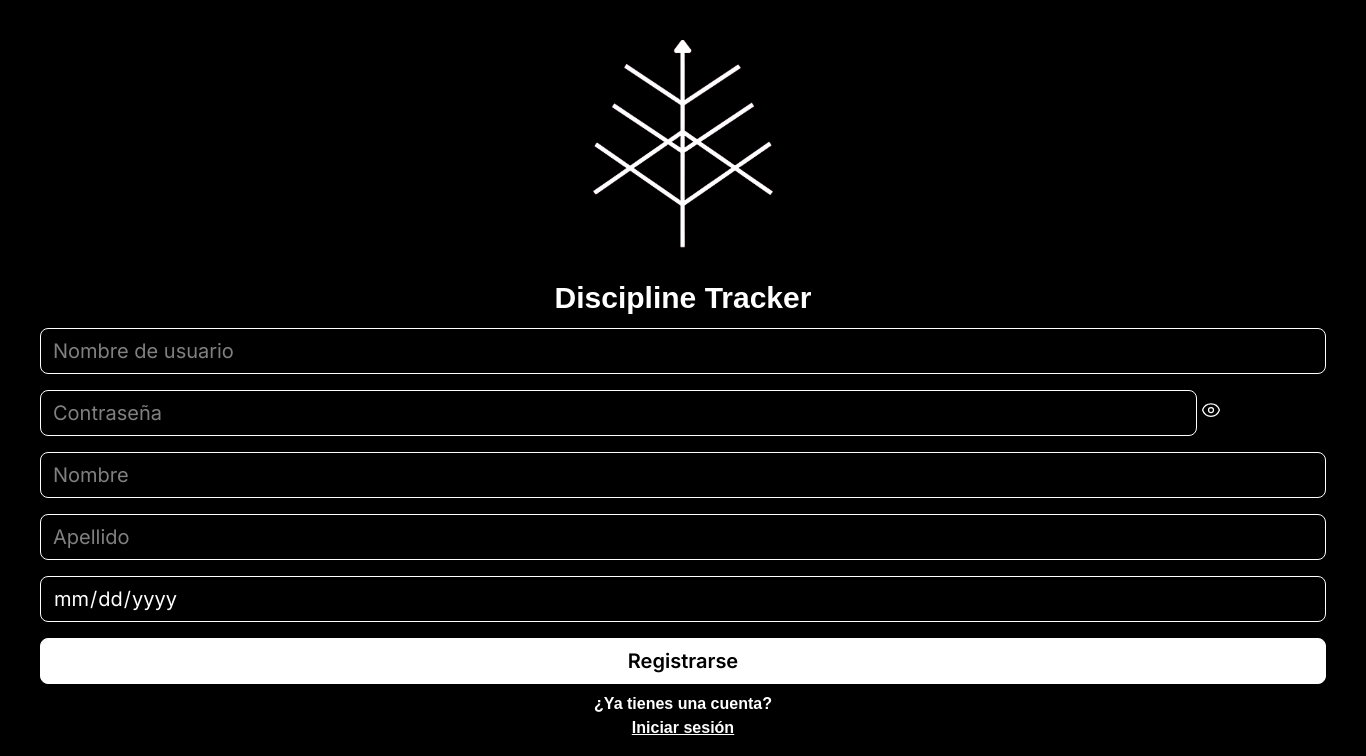
Scenario: Register › muestra un error genérico de servidor cuando no hay errores de campo
Click the button "Registrarse".
click(683, 661)  # box [40,638,1326,684]
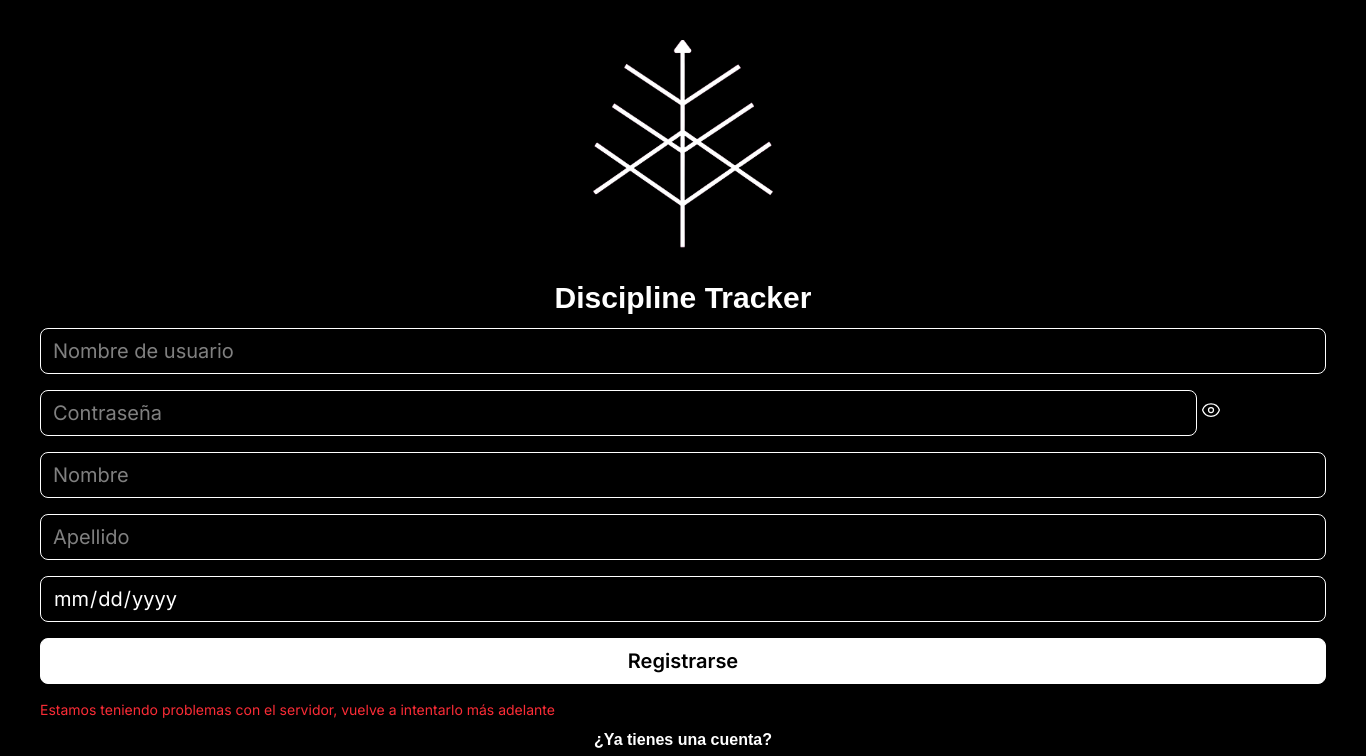
Check: the text "Estamos teniendo problemas con el servidor, vuelve a intentarlo más adelante" is shown, box [40,701,555,718]
